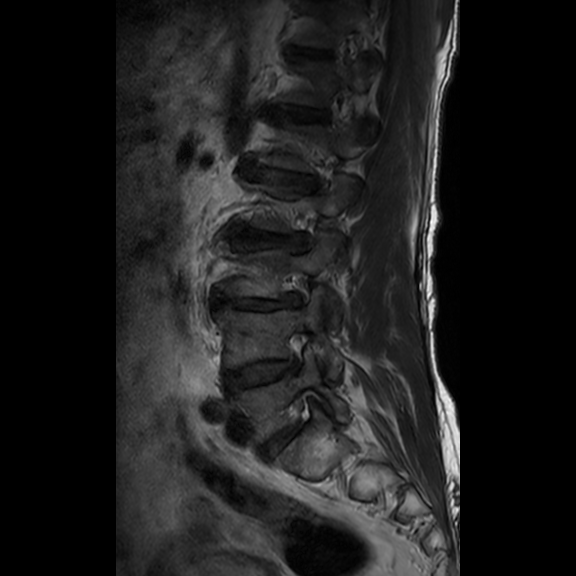LFS1: (276, 321, 317, 385)
